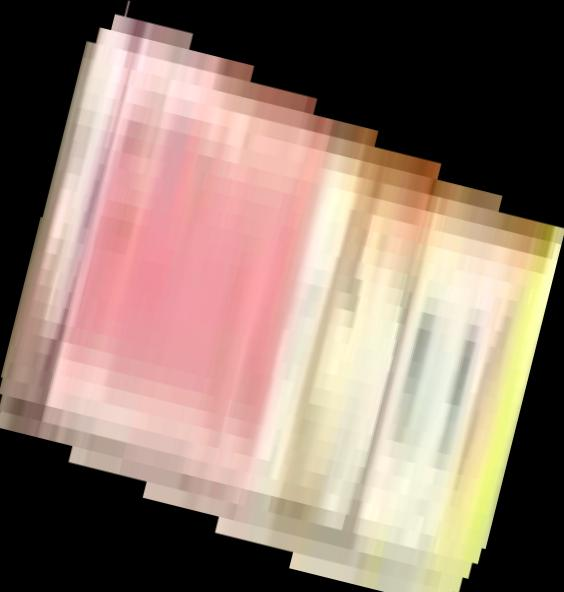flat: (1, 1, 564, 592)
